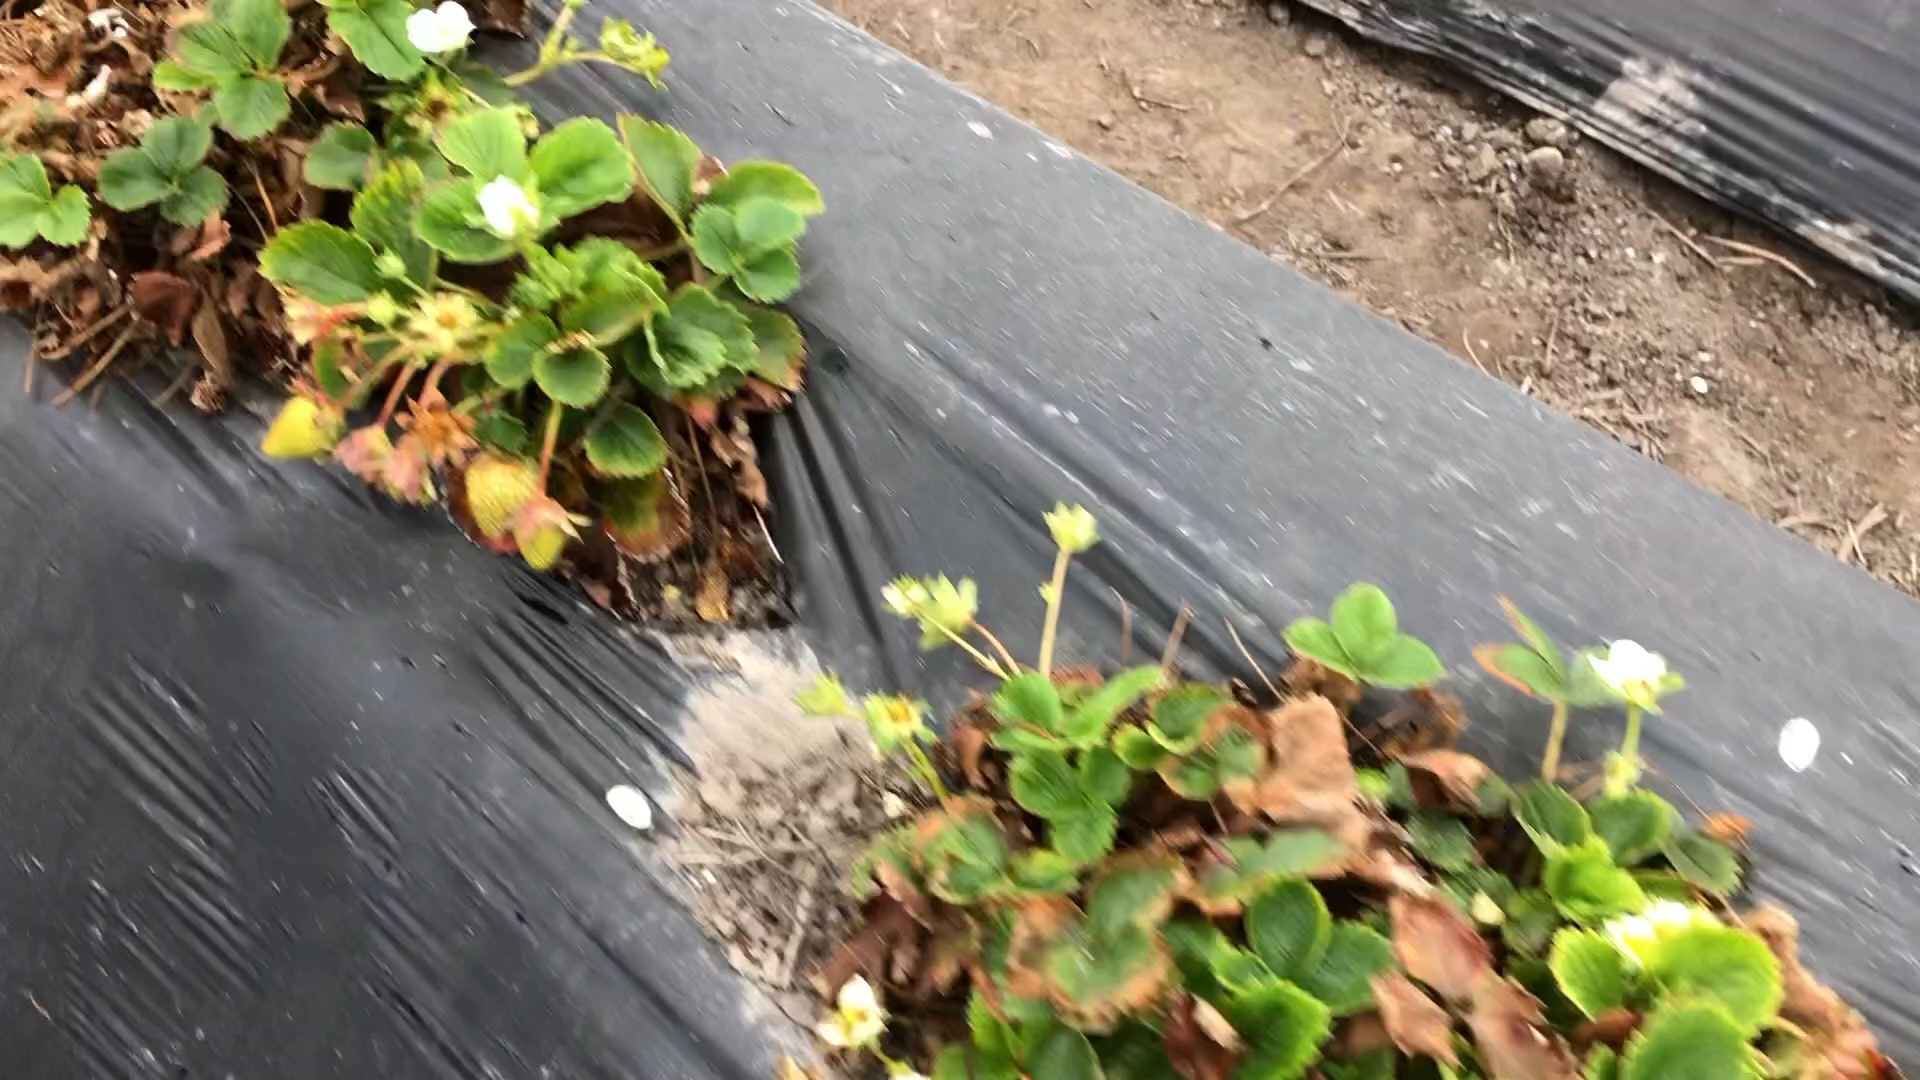unripe_strawberry: (464, 444, 542, 545), (257, 386, 345, 464), (509, 498, 579, 578)
